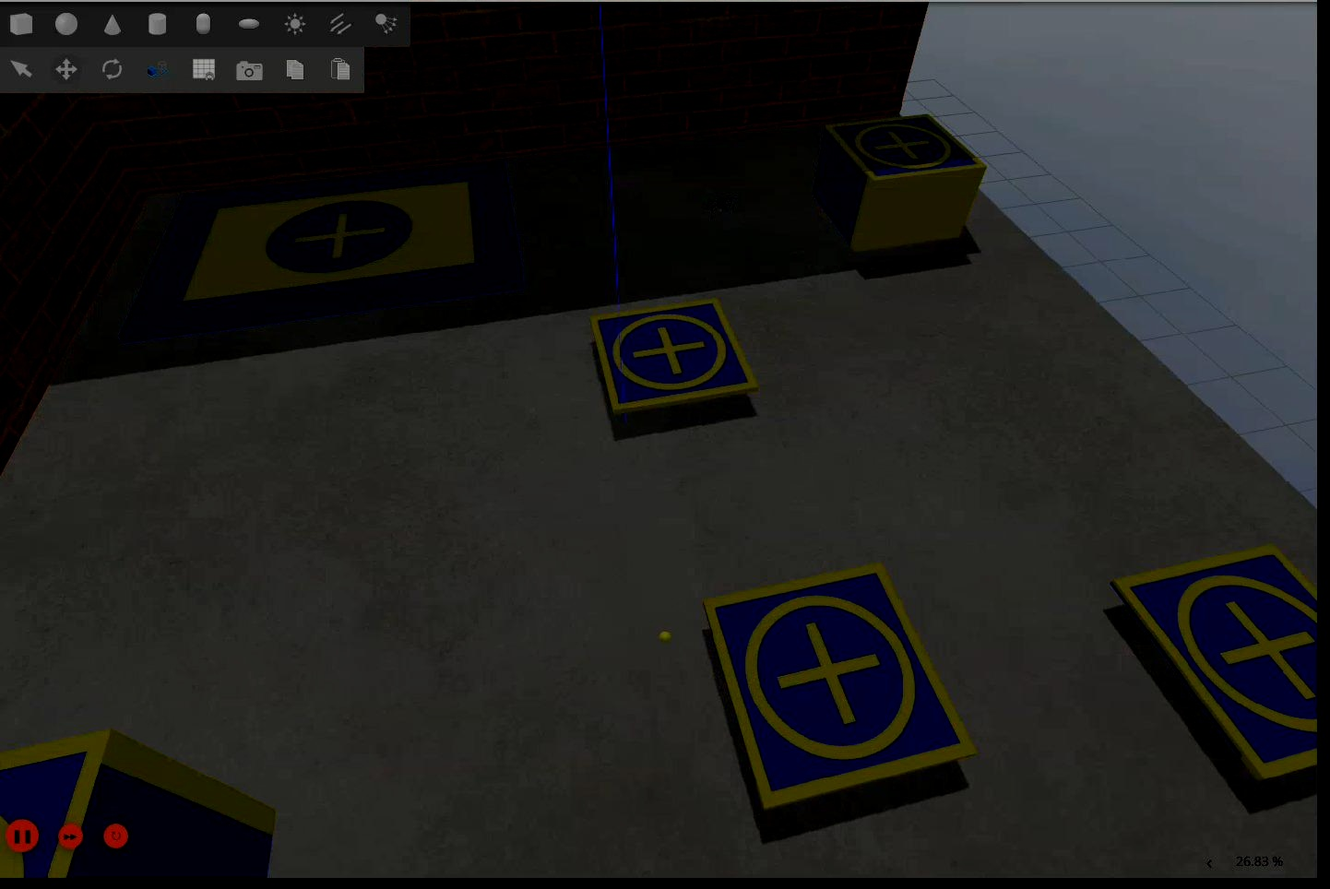large_base: (120, 161, 529, 345)
small_base: (710, 564, 980, 812), (1109, 546, 1323, 786), (1, 727, 126, 889), (590, 299, 760, 413), (825, 114, 986, 185)
